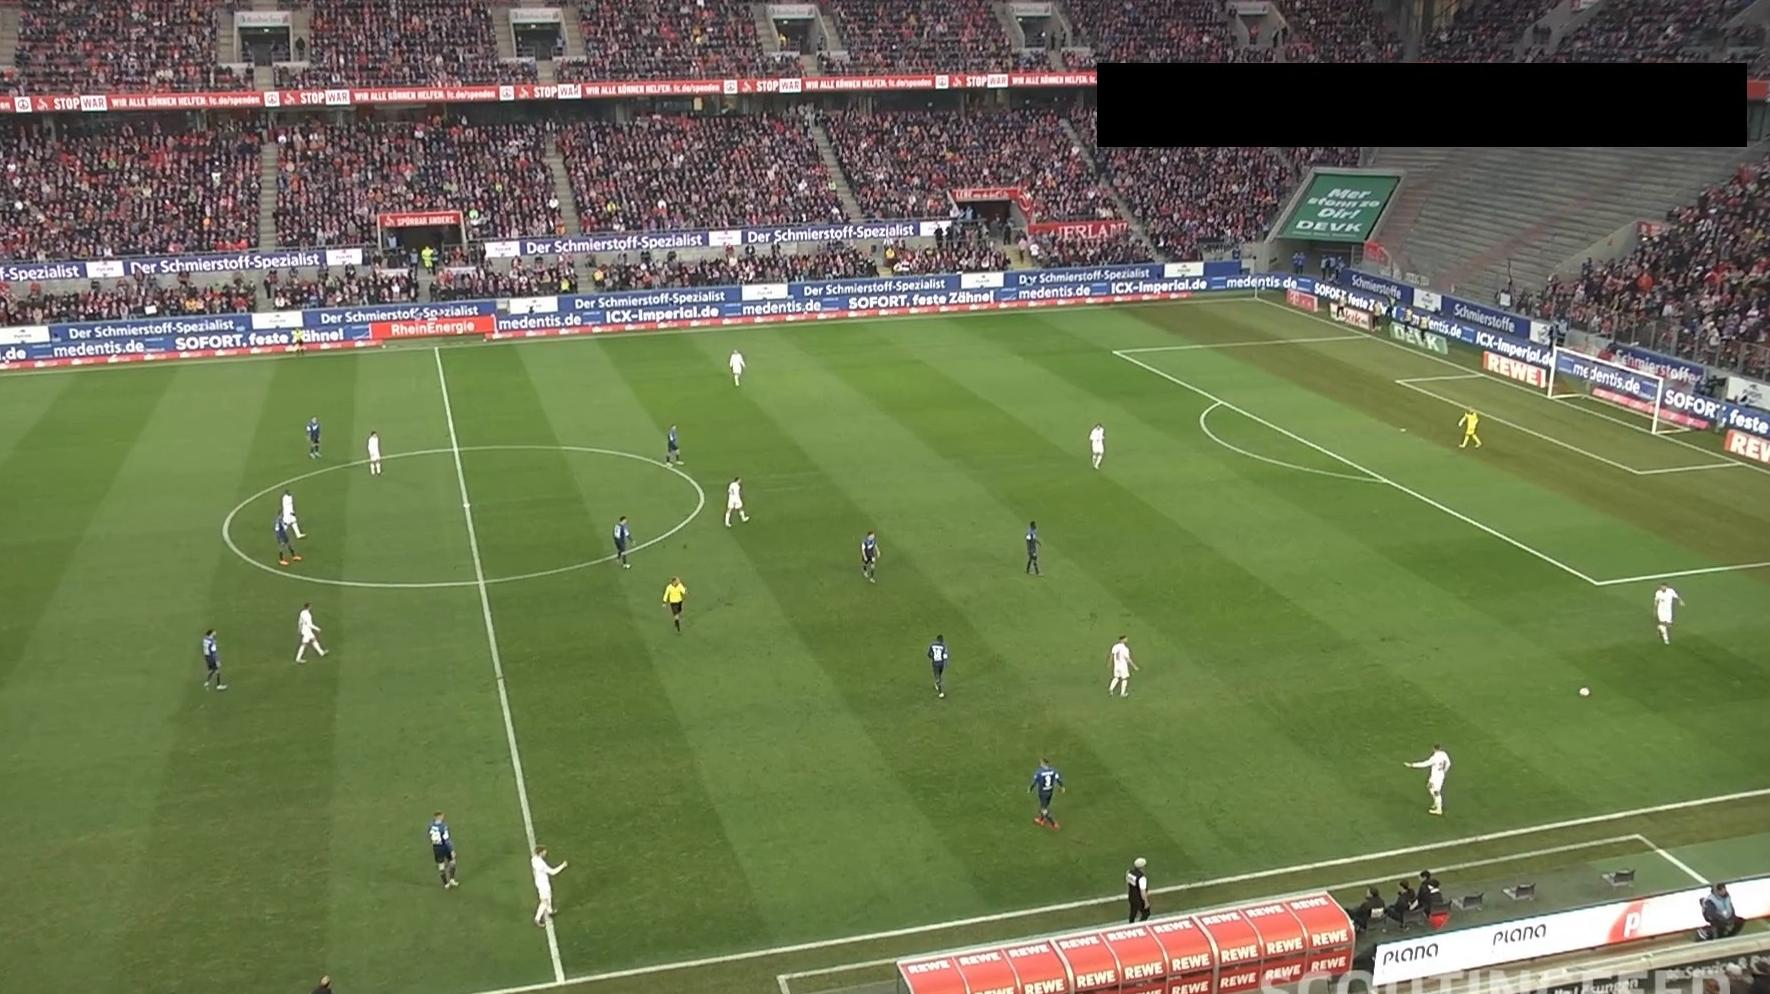ball: (1578, 685, 1593, 699)
